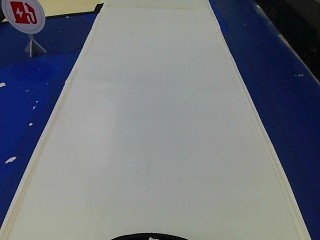battery: (1, 0, 47, 38)
